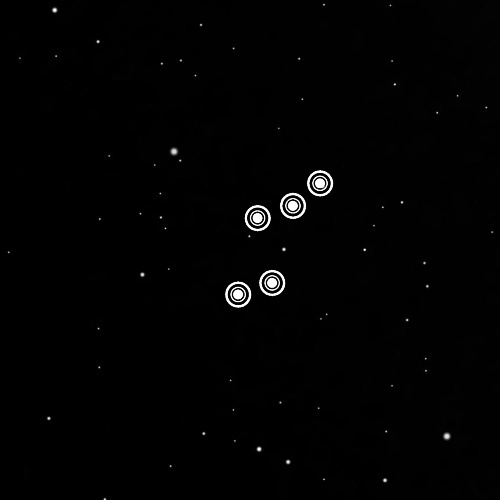lyra: (219, 157, 341, 315)
